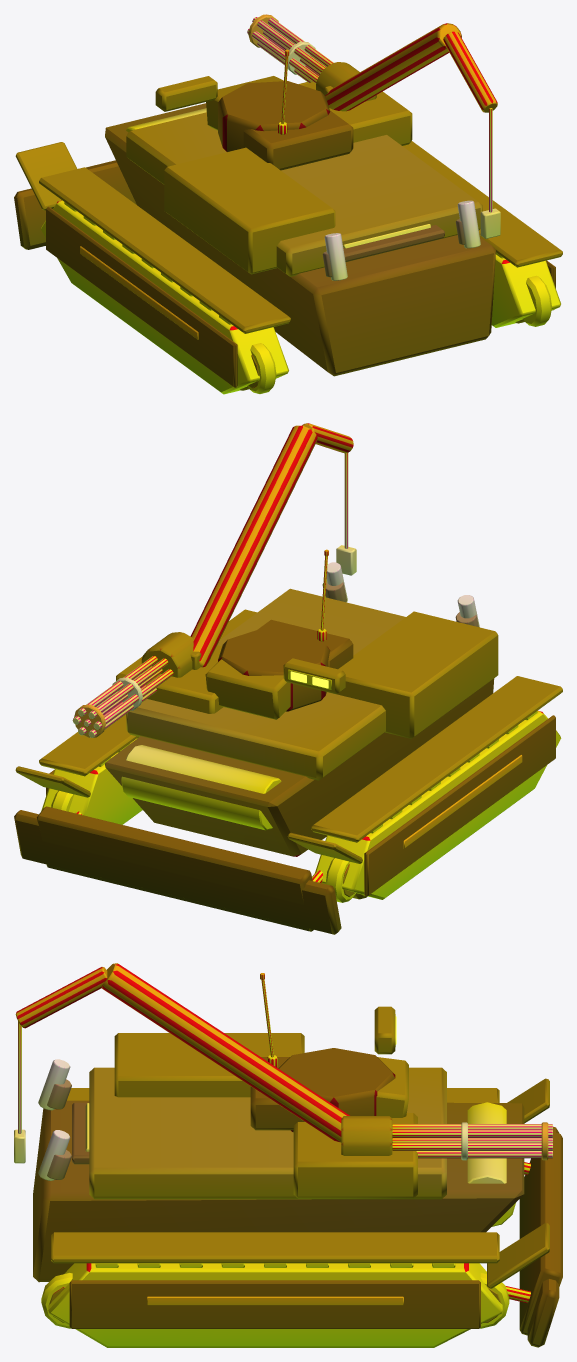
Rendered from SalvageHauler.fbx.
3 renders of one model, top to bottom at view 1: azimuth 30°, elevation 25°; view 2: azimuth 150°, elevation 25°; view 3: azimuth 270°, elevation 25°, orthographic. The views are drawn at different scales.
Parts seen in each view (by area): view 1: SalvageHauler_SalvageHauler_LightArmor, SalvageHauler_SalvageHauler_PrimaryArmor, SalvageHauler_SalvageHauler_Tread, SalvageHauler_SalvageHauler_Gunmetal, SalvageHauler_SalvageHauler_Warning, SalvageHaulerTurret_BaseShell; view 2: SalvageHauler_SalvageHauler_LightArmor, SalvageHauler_SalvageHauler_PrimaryArmor, SalvageHauler_SalvageHauler_Gunmetal, SalvageHauler_SalvageHauler_Tread, SalvageHauler_SalvageHauler_Warning, SalvageHaulerTurret_BaseShell; view 3: SalvageHauler_SalvageHauler_LightArmor, SalvageHauler_SalvageHauler_PrimaryArmor, SalvageHauler_SalvageHauler_Tread, SalvageHauler_SalvageHauler_Warning, SalvageHauler_SalvageHauler_Gunmetal, SalvageHaulerTurret_BaseShell.
Boxes of the visible parts, x1,y1,x2,y2 form: SalvageHauler_SalvageHauler_LightArmor: (15,62,562,333); SalvageHauler_SalvageHauler_PrimaryArmor: (14,103,555,387); SalvageHauler_SalvageHauler_Tread: (41,200,560,394); SalvageHauler_SalvageHauler_Gunmetal: (126,14,551,393); SalvageHauler_SalvageHauler_Warning: (80,14,497,339); SalvageHaulerTurret_BaseShell: (218,81,330,151); SalvageHauler_SalvageHauler_LightArmor: (15,580,562,863); SalvageHauler_SalvageHauler_PrimaryArmor: (14,619,555,934); SalvageHauler_SalvageHauler_Gunmetal: (51,453,548,902); SalvageHauler_SalvageHauler_Tread: (41,710,561,899); SalvageHauler_SalvageHauler_Warning: (74,423,522,848); SalvageHaulerTurret_BaseShell: (218,629,330,711); SalvageHauler_SalvageHauler_LightArmor: (47,1006,549,1288); SalvageHauler_SalvageHauler_PrimaryArmor: (33,1057,562,1347); SalvageHauler_SalvageHauler_Tread: (48,1263,502,1347); SalvageHauler_SalvageHauler_Warning: (15,963,548,1305); SalvageHauler_SalvageHauler_Gunmetal: (14,1014,552,1328); SalvageHaulerTurret_BaseShell: (278,1048,395,1132).
Bounding box in the file's own units: 279 × 259 × 376.
